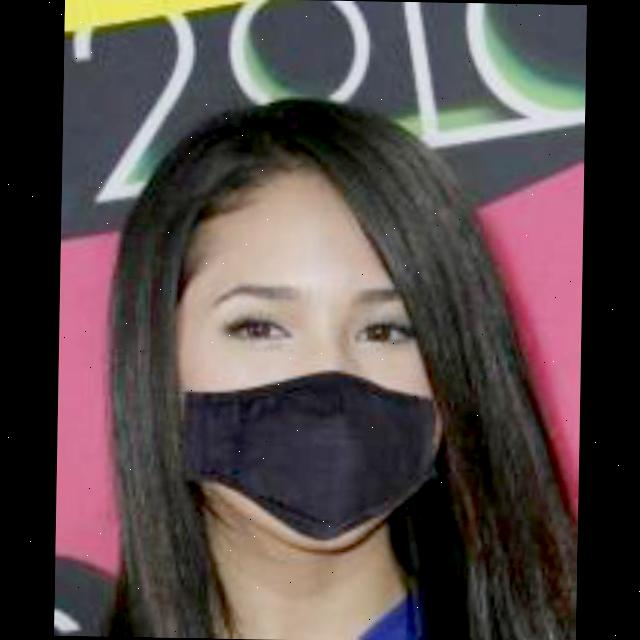suspicion: (159, 144, 518, 575)
